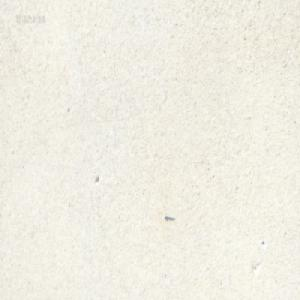Nail: (163, 212, 174, 220)
